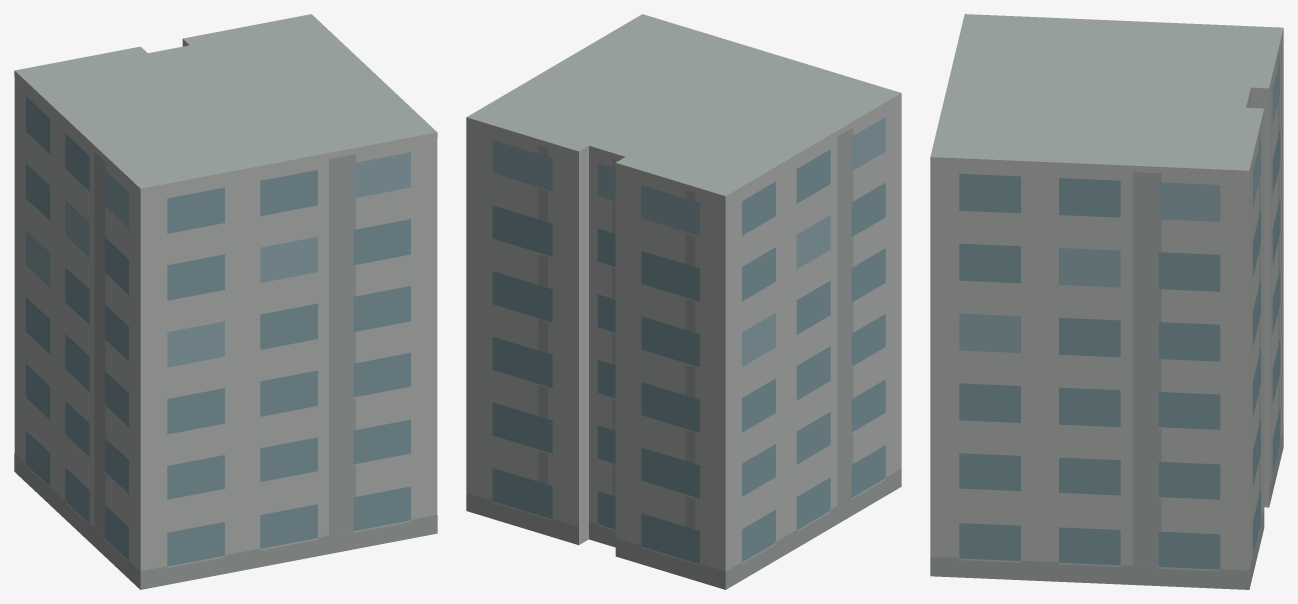
The model's file is residential-e6002a1f-9286-4e7b-813c-6f8044425c2e.glb.
3 views of the same model, side by side, from view 1: azimuth 30°, elevation 25°; view 2: azimuth 150°, elevation 25°; view 3: azimuth 270°, elevation 25° (orthographic). The views are drawn at different scales.
Visible parts, largest first — view 1: residential-e6002a1f-9286-4e7b-813c-6f8044425c2e.tmp; view 2: residential-e6002a1f-9286-4e7b-813c-6f8044425c2e.tmp; view 3: residential-e6002a1f-9286-4e7b-813c-6f8044425c2e.tmp.
Part boxes in pixels (x1,y1,x2,y2): residential-e6002a1f-9286-4e7b-813c-6f8044425c2e.tmp: (14,14,437,589); residential-e6002a1f-9286-4e7b-813c-6f8044425c2e.tmp: (466,14,901,589); residential-e6002a1f-9286-4e7b-813c-6f8044425c2e.tmp: (930,14,1283,589).
Size of the model in its own units: 12.75 by 15.9 by 12.16.
